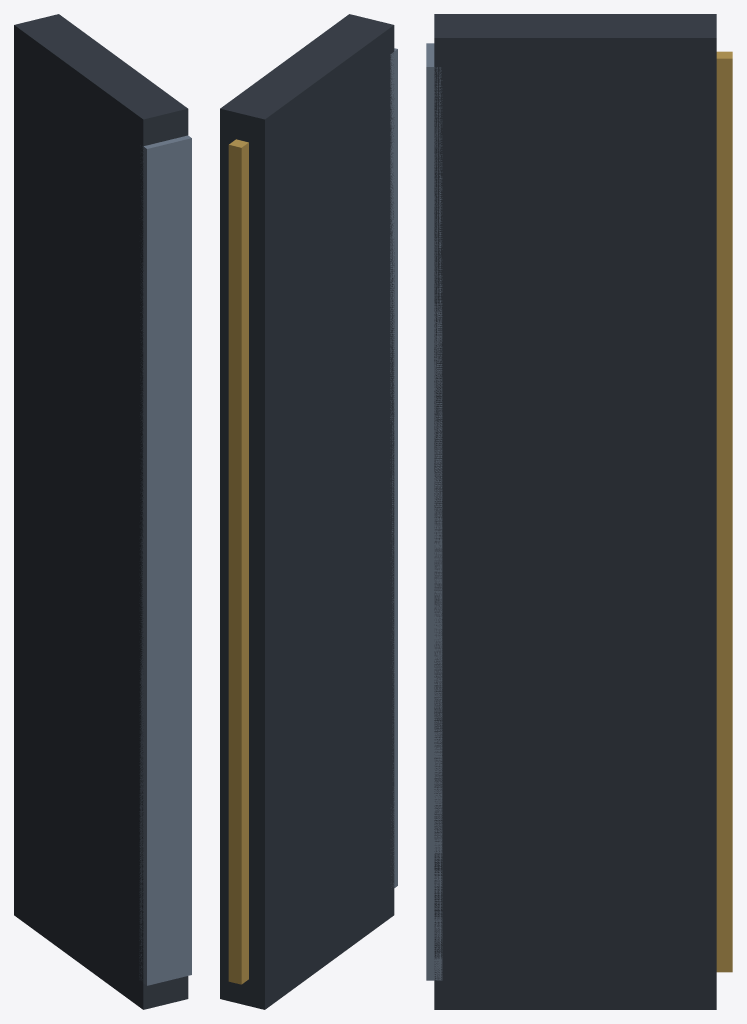
Rendered from silhouette-ram.glb.
3 renders of one model, left to right at view 1: azimuth 30°, elevation 25°; view 2: azimuth 150°, elevation 25°; view 3: azimuth 270°, elevation 25°, orthographic. The views are drawn at different scales.
Visible parts, largest first — view 1: Heat spreader, Top strip; view 2: Heat spreader, Contact edge, Top strip; view 3: Heat spreader, Contact edge, Top strip.
Boxes of the visible parts, <box> form: Heat spreader: <box>14,14,188,1009</box>; Top strip: <box>139,135,191,985</box>; Heat spreader: <box>220,14,394,1009</box>; Contact edge: <box>228,139,248,984</box>; Top strip: <box>390,48,397,887</box>; Heat spreader: <box>434,14,716,1009</box>; Contact edge: <box>716,51,732,972</box>; Top strip: <box>426,43,442,980</box>.
Bounding box in the file's own units: 0.007 × 0.133 × 0.038.
